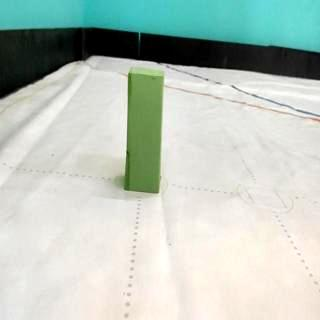greenbox: (121, 63, 168, 195)
